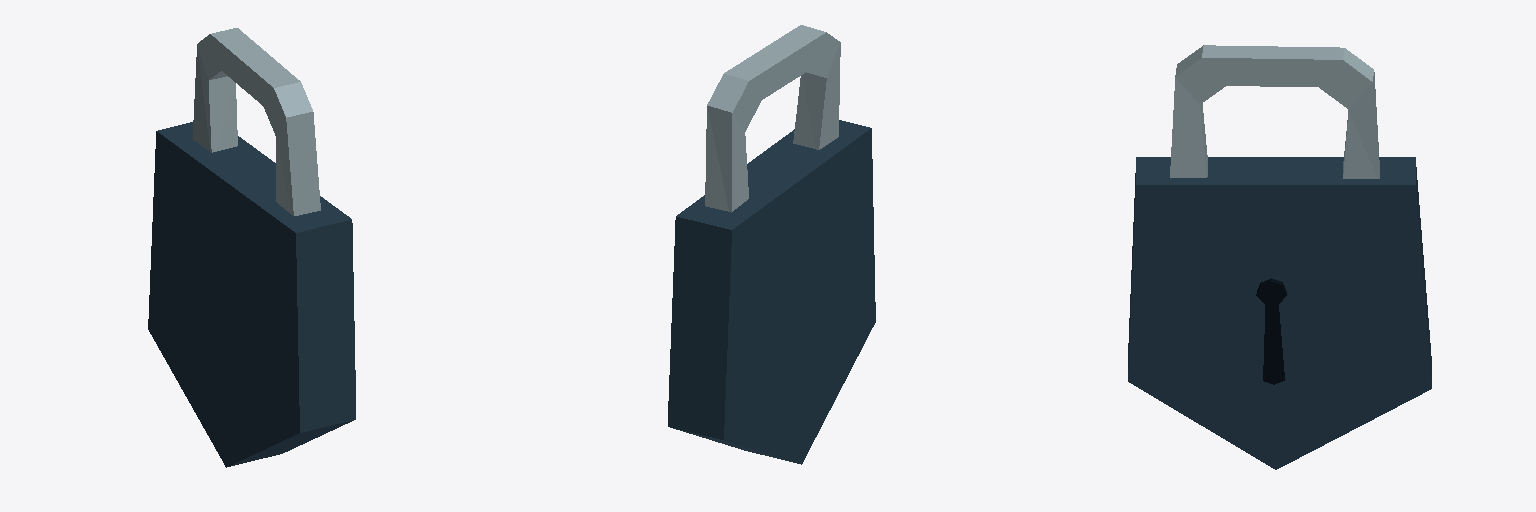
The picture shows the model from 3 angles: view 1: azimuth 30°, elevation 25°; view 2: azimuth 150°, elevation 25°; view 3: azimuth 270°, elevation 25°; orthographic projection.
Visible parts, largest first — view 1: group[number redacted], group[number redacted]; view 2: group[number redacted], group[number redacted]; view 3: group[number redacted], group[number redacted], group[number redacted].
Part boxes in pixels (x1,y1,x2,y2): group[number redacted]: (148, 122, 355, 467); group[number redacted]: (193, 28, 320, 215); group[number redacted]: (668, 120, 875, 464); group[number redacted]: (705, 25, 840, 212); group[number redacted]: (1128, 157, 1431, 469); group[number redacted]: (1170, 45, 1379, 178); group[number redacted]: (1256, 278, 1286, 384).
Size of the model in its own units: 0.0905 by 0.5481 by 0.3731.